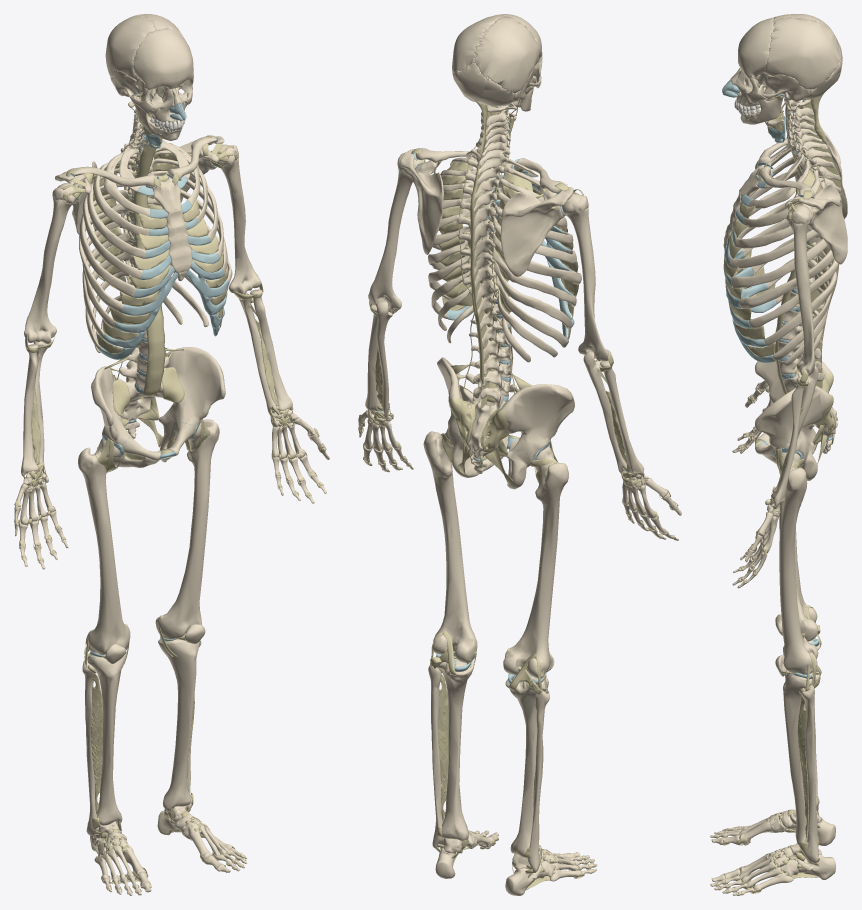
File: skeleton.glb
3 views of the same model, side by side, from view 1: azimuth 30°, elevation 25°; view 2: azimuth 150°, elevation 25°; view 3: azimuth 270°, elevation 25° (orthographic). The views are drawn at different scales.
Visible parts, largest first — view 1: Femur.r, Femur.l, Hip bone.l, Tibia.l, Frontal bone, Tibia.r, External intercostal membrane.r, Humerus.r, Humerus.l, Hip bone.r, Anterior longitudinal ligament, Parietal bone.r (+21 smaller); view 2: Femur.r, Femur.l, Hip bone.r, Scapula.r, Parietal bone.r, Tibia.l, Humerus.r, Tibia.r, Humerus.l, Scapula.l, Internal intercostal membrane.l, Hip bone.l (+20 smaller); view 3: Femur.l, Parietal bone.l, Hip bone.l, Humerus.l, Tibia.l, Scapula.l, Fibula.l, External intercostal membrane.l, Frontal bone, Radius.l, Hip bone.r, Seventh rib.l (+28 smaller).
Boxes of the visible parts, <box> form: Femur.r: <box>78,438,130,655</box>; Femur.l: <box>155,419,219,639</box>; Hip bone.l: <box>158,347,225,462</box>; Tibia.l: <box>158,635,200,811</box>; Frontal bone: <box>133,28,193,91</box>; Tibia.r: <box>87,652,126,825</box>; External intercostal membrane.r: <box>96,212,170,353</box>; Humerus.r: <box>24,183,78,344</box>; Humerus.l: <box>215,144,260,294</box>; Hip bone.r: <box>91,366,160,467</box>; Anterior longitudinal ligament: <box>133,113,165,398</box>; Parietal bone.r: <box>105,15,157,79</box>; Femur.r: <box>503,446,568,678</box>; Femur.l: <box>423,428,477,662</box>; Hip bone.r: <box>500,384,574,489</box>; Scapula.r: <box>500,187,573,276</box>; Parietal bone.r: <box>474,16,539,93</box>; Tibia.l: <box>436,656,473,840</box>; Humerus.r: <box>562,193,611,361</box>; Tibia.r: <box>505,673,548,857</box>; Humerus.l: <box>368,152,422,312</box>; Scapula.l: <box>400,149,443,254</box>; Internal intercostal membrane.l: <box>438,162,473,306</box>; Hip bone.l: <box>437,357,508,477</box>; Femur.l: <box>775,452,818,674</box>; Parietal bone.l: <box>763,17,840,89</box>; Hip bone.l: <box>755,386,830,480</box>; Humerus.l: <box>786,205,815,375</box>; Tibia.l: <box>783,671,819,845</box>; Scapula.l: <box>785,183,847,264</box>; Fibula.l: <box>801,684,818,863</box>; External intercostal membrane.l: <box>724,202,775,356</box>; Frontal bone: <box>738,17,774,78</box>; Radius.l: <box>771,377,808,506</box>; Hip bone.r: <box>755,352,830,453</box>; Seventh rib.l: <box>739,249,834,308</box>.
Size of the model in its own units: 0.6693 by 1.7 by 0.2501.
